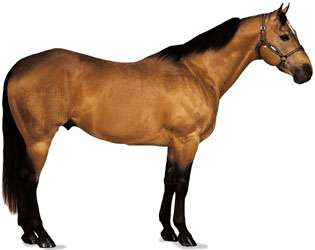horse: (1, 1, 313, 250)
